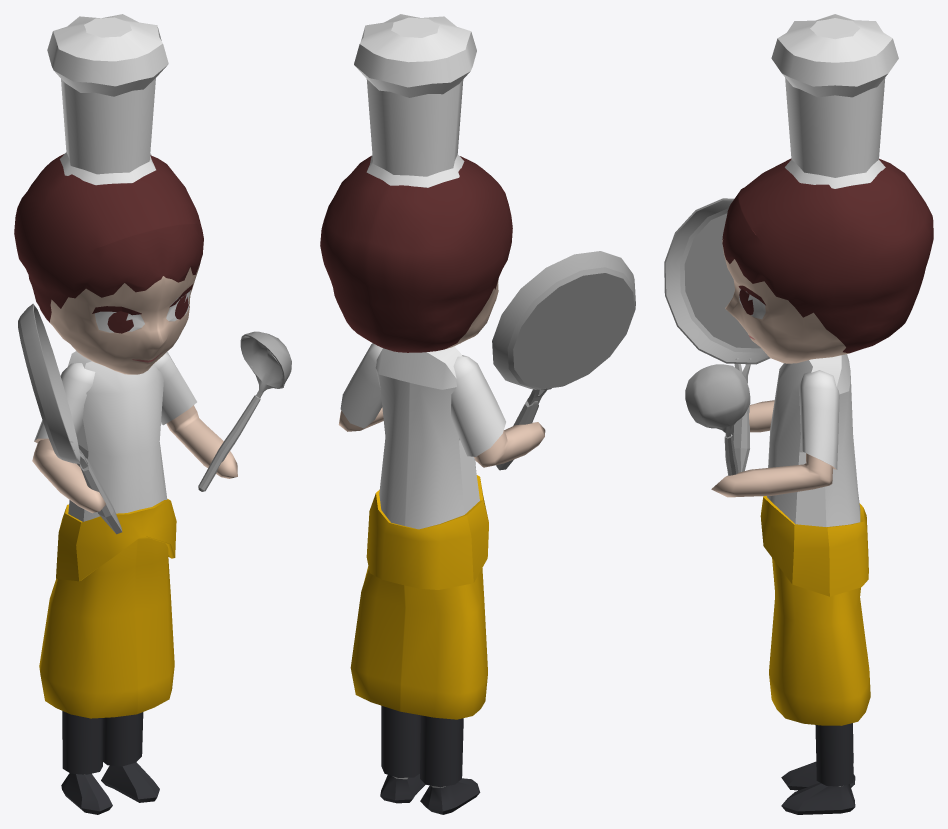
The model's file is koma_Chef.fbx.
The picture shows the model from 3 angles, left to right: view 1: azimuth 30°, elevation 25°; view 2: azimuth 150°, elevation 25°; view 3: azimuth 270°, elevation 25°; orthographic projection.
Parts seen in each view (by area): view 1: frying_pan:pCylinder3; view 2: frying_pan:pCylinder3; view 3: frying_pan:pCylinder3.
Boxes of the visible parts, x1=… form: frying_pan:pCylinder3: x1=14, y1=14, x2=291, y2=814; frying_pan:pCylinder3: x1=320, y1=14, x2=635, y2=814; frying_pan:pCylinder3: x1=664, y1=14, x2=933, y2=814.
Bounding box in the file's own units: 3.24 × 8.88 × 2.81.
